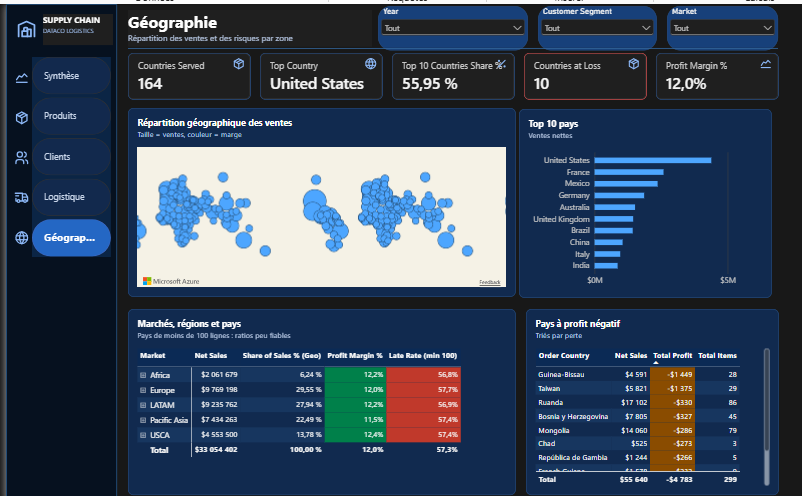

What the dashboard file says about the page in this screenshot:
{"tool":"powerbi","page":{"name":"Géographie","canvas":[1440,900],"ordinal":4},"visuals":[{"type":"shape","box":[0,0,200,900],"z":0},{"type":"textbox","box":[66,18,126,56],"z":1000},{"type":"pageNavigator","box":[46,96,142,360],"z":2000},{"type":"textbox","box":[220,10,438.8,66],"z":4000},{"type":"image","box":[14,118,28,28],"z":4000},{"type":"image","box":[14,190,28,28],"z":4000},{"type":"image","box":[14,262,28,28],"z":4000},{"type":"image","box":[14,334,28,28],"z":4000},{"type":"image","box":[14,406,28,28],"z":4000},{"type":"slicer","title":"Marché","fields":{"Values":["Dim_Geography.Market"]},"box":[1189.8,4,200.2,80],"z":5000},{"type":"slicer","title":"Segment client","fields":{"Values":["Dim_Customer.Customer Segment"]},"box":[958,4,213.8,80],"z":6000},{"type":"slicer","title":"Année","fields":{"Values":["Dim_Date.Year"]},"box":[670,4,270,80],"z":7000},{"type":"cardVisual","fields":{"Data":["Dim_Geography.Countries at Loss"]},"box":[932.1,88,220.5,84],"z":8000},{"type":"cardVisual","fields":{"Data":["Dim_Geography.Top 10 Countries Share %"]},"box":[694.8,88,220.5,84],"z":9000},{"type":"cardVisual","fields":{"Data":["Dim_Geography.Top Country"]},"box":[457.4,88,220.5,84],"z":10000},{"type":"cardVisual","fields":{"Data":["Fact_OrderItems.Profit Margin %"]},"box":[1169.5,88,220.5,84],"z":11000},{"type":"cardVisual","fields":{"Data":["Dim_Geography.Countries Served"]},"box":[220,88,220.5,84],"z":12000},{"type":"azureMap","title":"Répartition géographique des ventes","fields":{"Category":["Dim_Geography.Order Country"],"Size":["Fact_OrderItems.Net Sales"]},"box":[220,188,697.5,340],"z":12001},{"type":"clusteredBarChart","title":"Top 10 pays","fields":{"Category":["Dim_Geography.Order Country"],"Y":["Fact_OrderItems.Net Sales"]},"box":[923.4,188.9,454.5,340],"z":12002},{"type":"pivotTable","title":"Marchés, régions et pays","fields":{"Rows":["Dim_Geography.Market Hiérarchie.Market","Dim_Geography.Market Hiérarchie.Order Region","Dim_Geography.Market Hiérarchie.Order Country"],"Values":["Fact_OrderItems.Net Sales","Dim_Geography.Share of Sales % (Geo)","Fact_OrderItems.Profit Margin %","Dim_Geography.Late Rate (min 100)"]},"box":[220,549.8,697.5,334.6],"z":12003},{"type":"tableEx","title":"Pays à profit négatif","fields":{"Values":["Dim_Geography.Order Country","Fact_OrderItems.Net Sales","Fact_OrderItems.Total Profit","Fact_OrderItems.Total Items"]},"box":[935.5,549.8,454.5,334.6],"z":12004},{"type":"shape","box":[220,80,1170,1],"z":12050},{"type":"image","box":[18,25,38,38],"z":25000},{"type":"image","box":[404.5,96,27,24],"z":25001},{"type":"image","box":[641.9,96,27,24],"z":25001},{"type":"image","box":[879.2,96,27,24],"z":25001},{"type":"image","box":[1116.6,96,27,24],"z":25001},{"type":"image","box":[1354,96,27,24],"z":25001}]}

Visuals, with their boxes on the page's 1440x900 design canvas (x1, y1, x2, y2). These are canvas units, not pixel positions in the 802x496 screenshot, which may show the page scaled, cropped or inside an application window:
shape: l=0, t=0, r=200, b=900
textbox: l=66, t=18, r=192, b=74
pageNavigator: l=46, t=96, r=188, b=456
textbox: l=220, t=10, r=659, b=76
image: l=14, t=118, r=42, b=146
image: l=14, t=190, r=42, b=218
image: l=14, t=262, r=42, b=290
image: l=14, t=334, r=42, b=362
image: l=14, t=406, r=42, b=434
"Marché" slicer: l=1190, t=4, r=1390, b=84
"Segment client" slicer: l=958, t=4, r=1172, b=84
"Année" slicer: l=670, t=4, r=940, b=84
cardVisual - Dim_Geography.Countries at Loss: l=932, t=88, r=1153, b=172
cardVisual - Dim_Geography.Top 10 Countries Share %: l=695, t=88, r=915, b=172
cardVisual - Dim_Geography.Top Country: l=457, t=88, r=678, b=172
cardVisual - Fact_OrderItems.Profit Margin %: l=1170, t=88, r=1390, b=172
cardVisual - Dim_Geography.Countries Served: l=220, t=88, r=440, b=172
"Répartition géographique des ventes" azureMap: l=220, t=188, r=918, b=528
"Top 10 pays" clusteredBarChart: l=923, t=189, r=1378, b=529
"Marchés, régions et pays" pivotTable: l=220, t=550, r=918, b=884
"Pays à profit négatif" tableEx: l=936, t=550, r=1390, b=884
shape: l=220, t=80, r=1390, b=81
image: l=18, t=25, r=56, b=63
image: l=404, t=96, r=432, b=120
image: l=642, t=96, r=669, b=120
image: l=879, t=96, r=906, b=120
image: l=1117, t=96, r=1144, b=120
image: l=1354, t=96, r=1381, b=120
